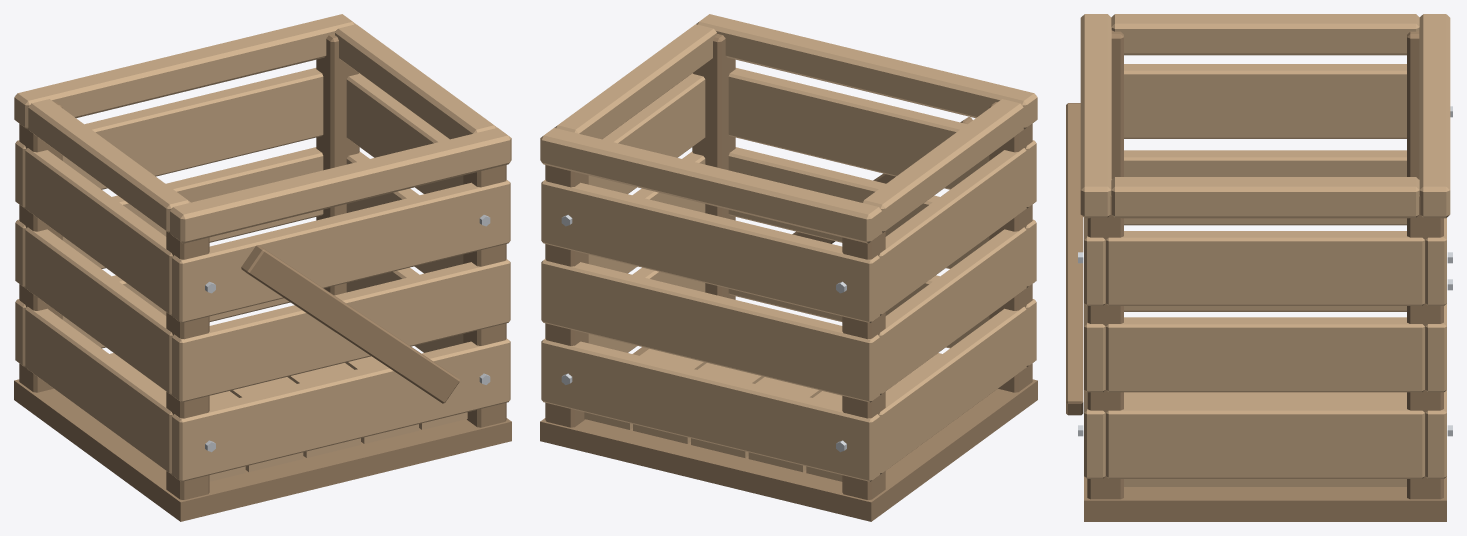
The model's file is prop_crate.glb.
The picture shows the model from 3 angles, left to right: view 1: azimuth 30°, elevation 25°; view 2: azimuth 150°, elevation 25°; view 3: azimuth 270°, elevation 25°; orthographic projection. The views are drawn at different scales.
Parts seen in each view (by area): view 1: prop_crate; view 2: prop_crate; view 3: prop_crate.
Part boxes in pixels (box(x1,y1,x2,y2)): prop_crate: box(14, 14, 511, 521); prop_crate: box(540, 14, 1037, 521); prop_crate: box(1066, 14, 1452, 521).
Bounding box in the file's own units: 0.62 × 0.548 × 0.576.
